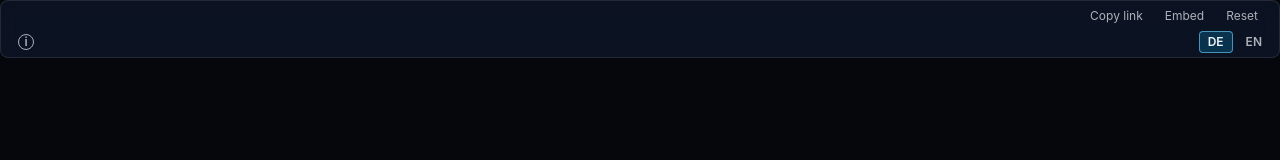
Test: Kopfzeile: Einbetten › meldet auf Englisch mit dem englischen Titel im Code
What coordinates should you click on to do the following:
click the button "Embed"
I would click on:
 (1184, 16)
Its box is [1156,5,1213,27].
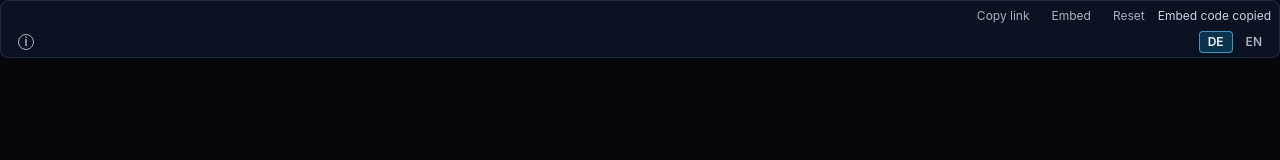
Expected: the message reads "Embed code copied", [1158,8,1271,23]
